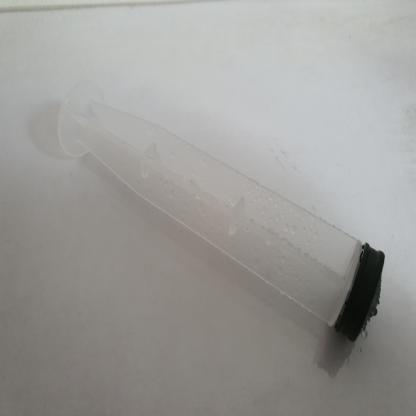wet: (70, 66, 375, 343)
